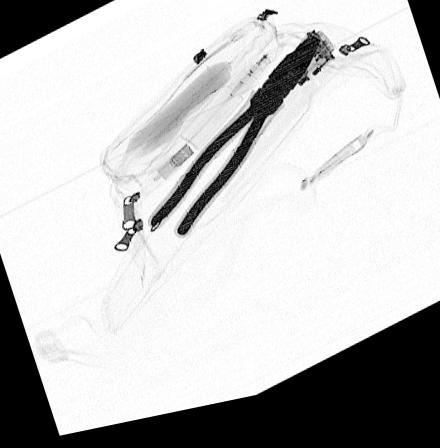Pliers: (146, 46, 320, 246)
